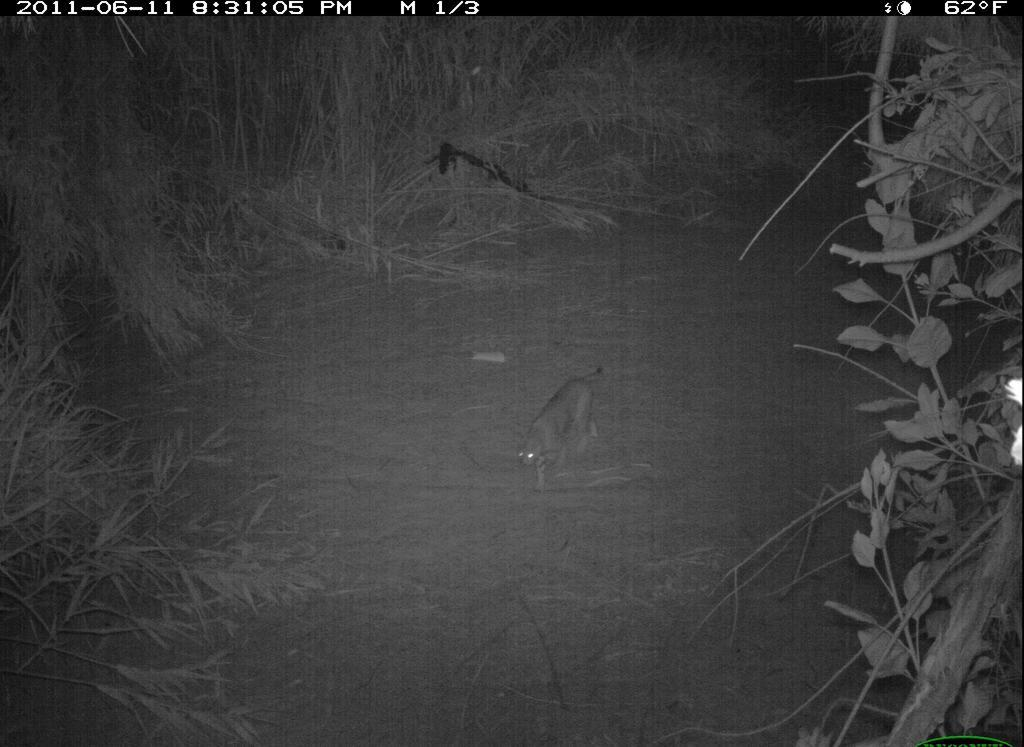bobcat: (509, 358, 616, 504)
